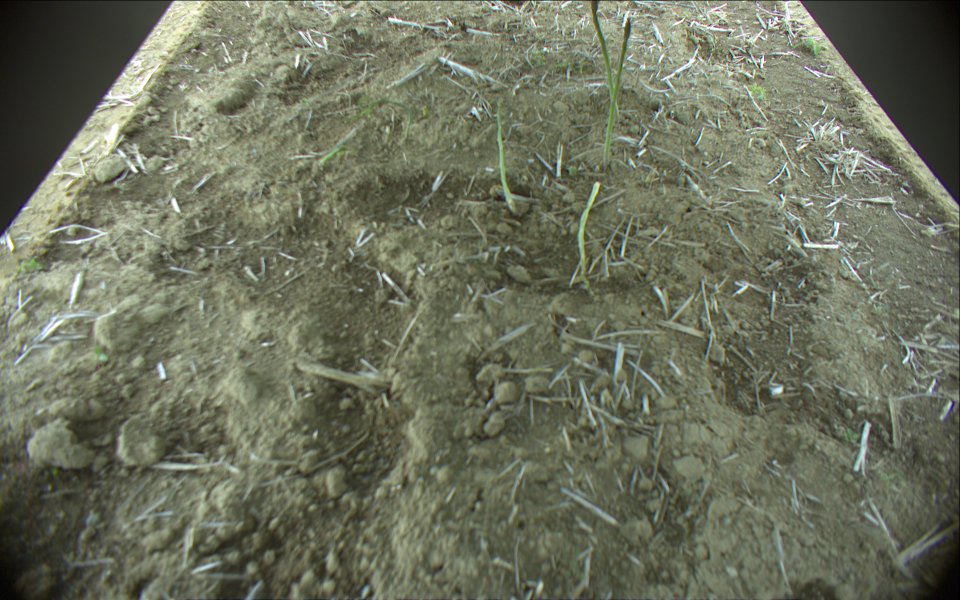aspa: (602, 18, 631, 171), (589, 1, 623, 116), (494, 99, 518, 213), (577, 182, 601, 276)
